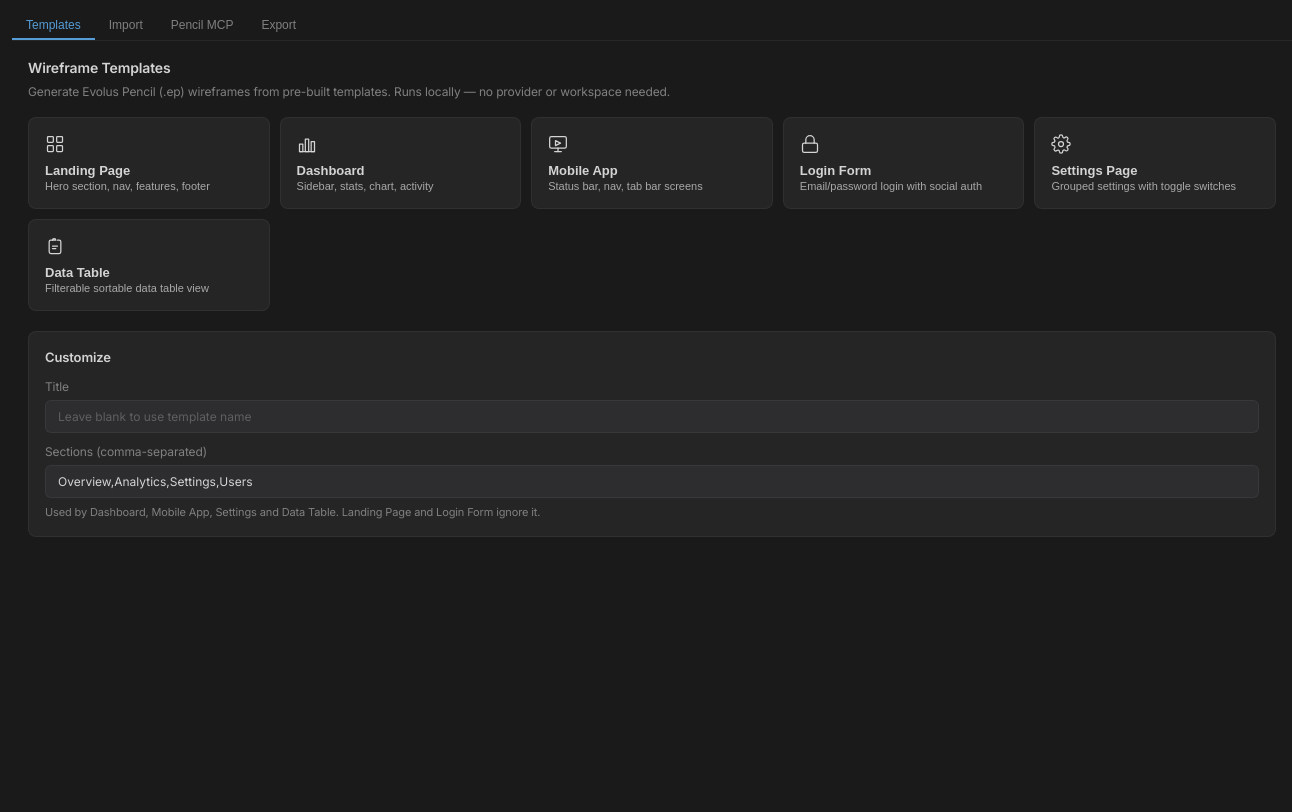
Scenario: PencilPanel - Templates › surfaces a failing generate instead of swallowing it
Step 1. Click the button with aria-label "Generate Login Form wireframe" → (904, 163), box [783,117,1024,209]
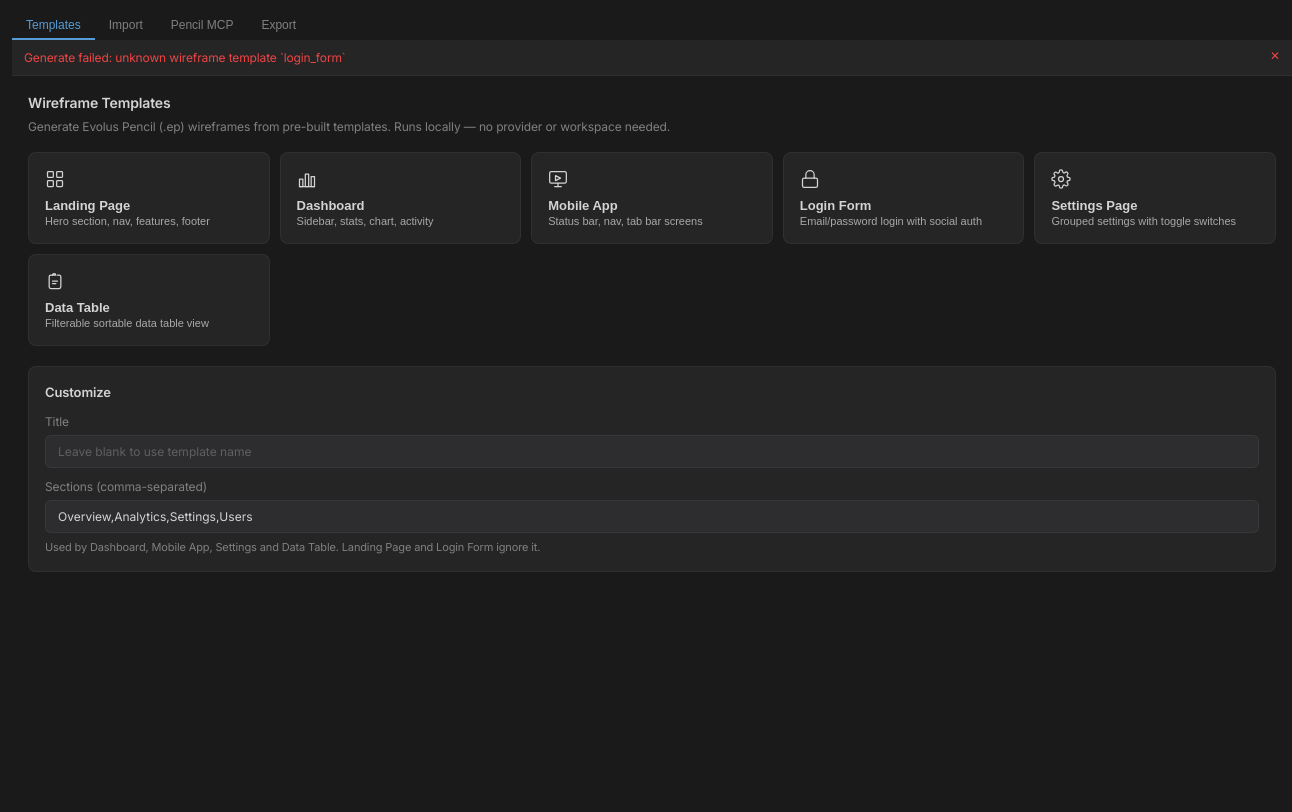
Now the message shows "unknown wireframe template", box [24,50,346,65]
